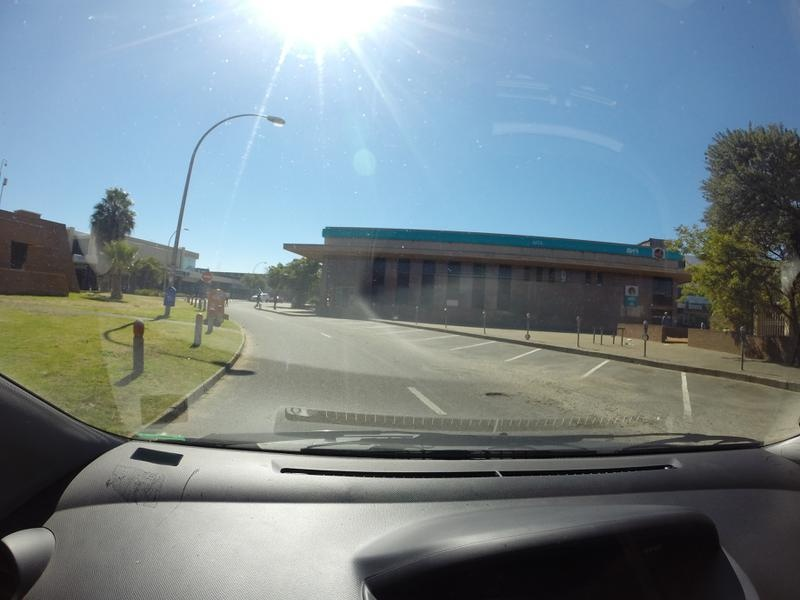pothole: (466, 389, 509, 403)
